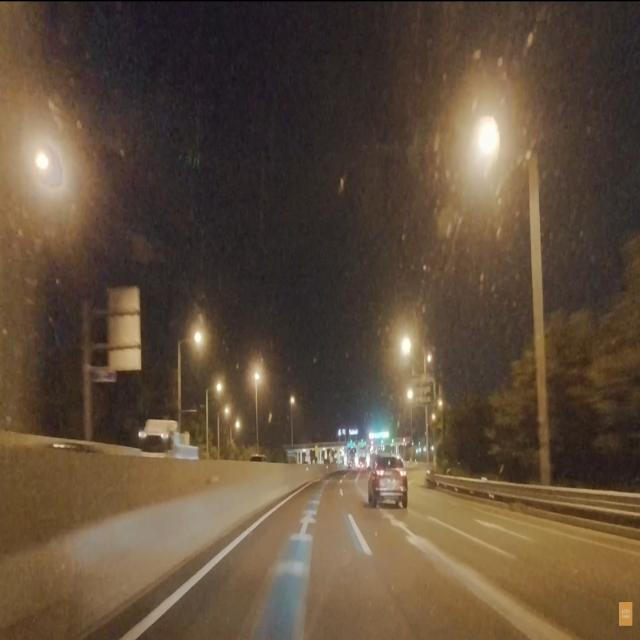forward: (237, 515, 363, 535)
